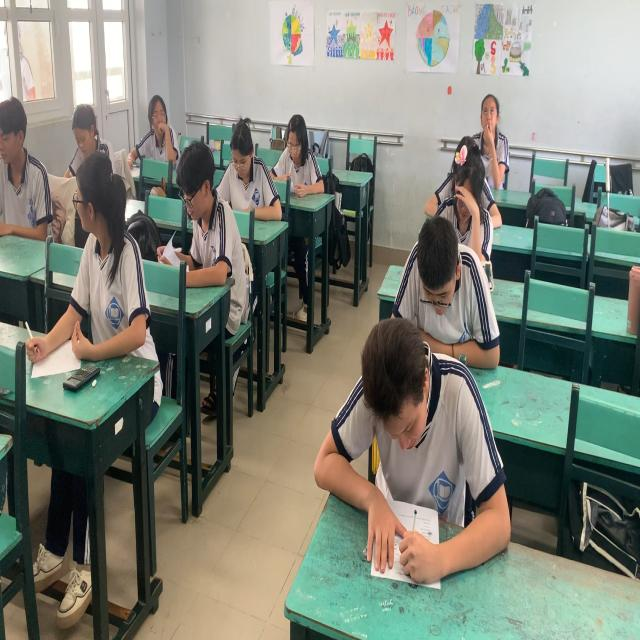cheating: (66, 151, 150, 341)
not_cheating: (320, 316, 499, 569), (161, 143, 233, 261), (0, 98, 50, 240), (402, 219, 464, 327), (220, 102, 272, 212), (277, 112, 320, 192), (448, 147, 489, 229), (146, 88, 176, 164), (70, 102, 108, 154), (476, 88, 501, 139)
